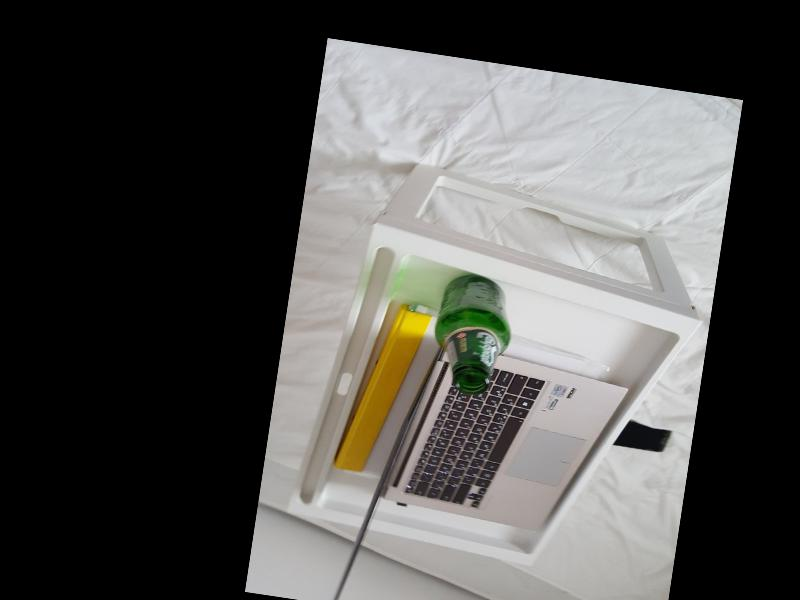Beer: (427, 270, 517, 397)
